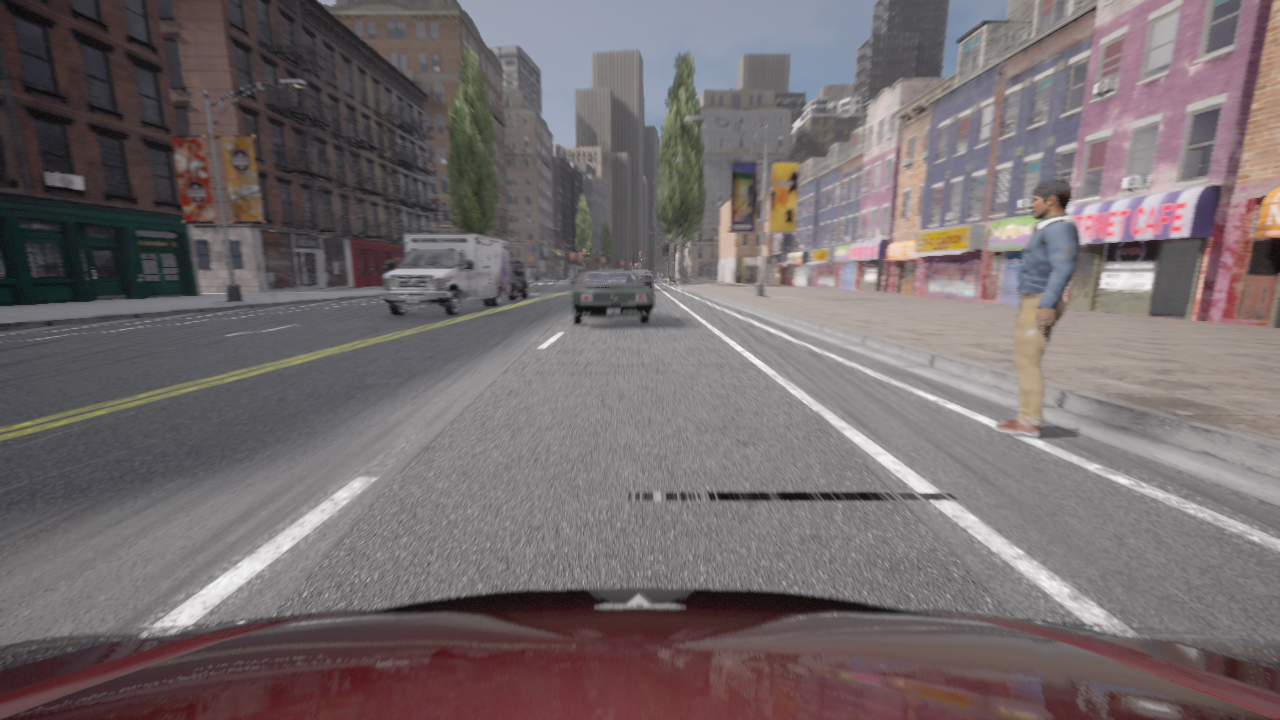cyclist: (0, 588, 1279, 719), (382, 234, 511, 315), (570, 270, 654, 324), (507, 259, 528, 300), (632, 268, 653, 289)
pedestrian: (994, 179, 1081, 436)
